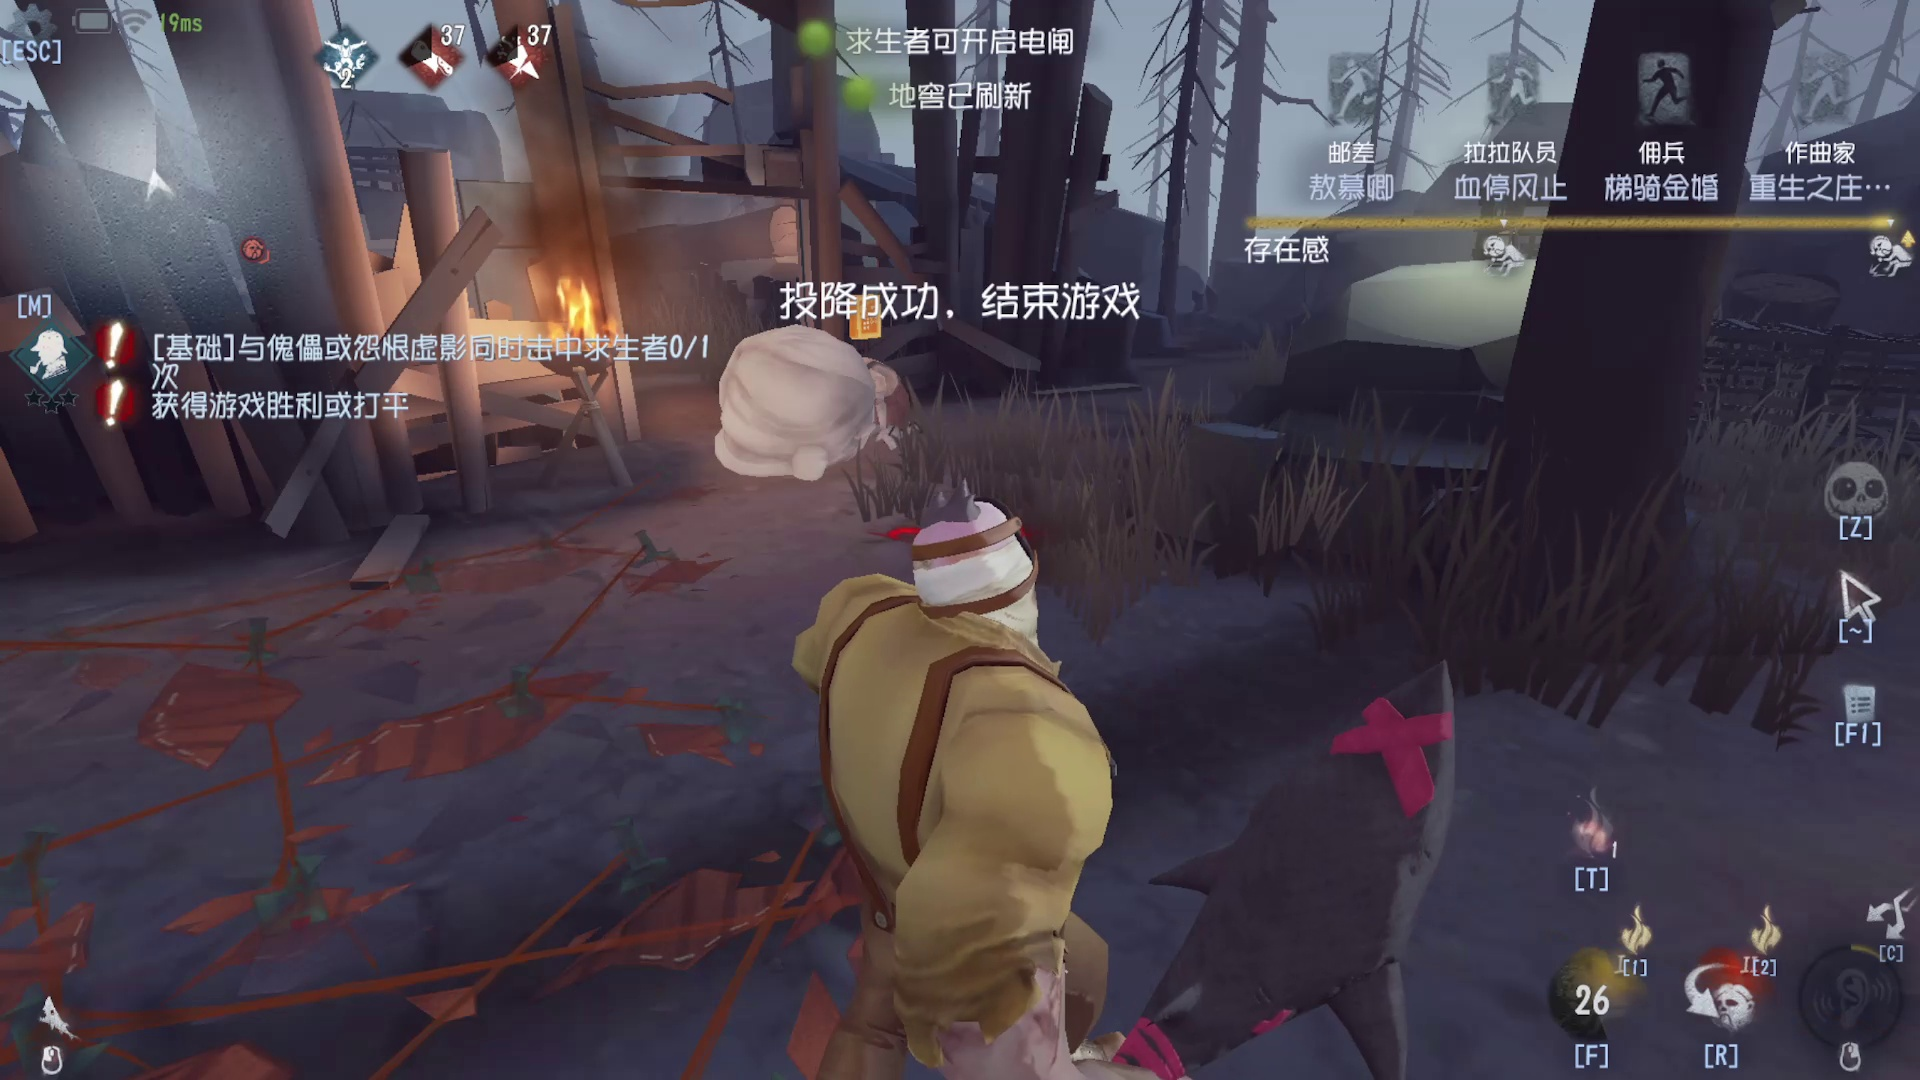设置: (1, 1, 80, 84)
